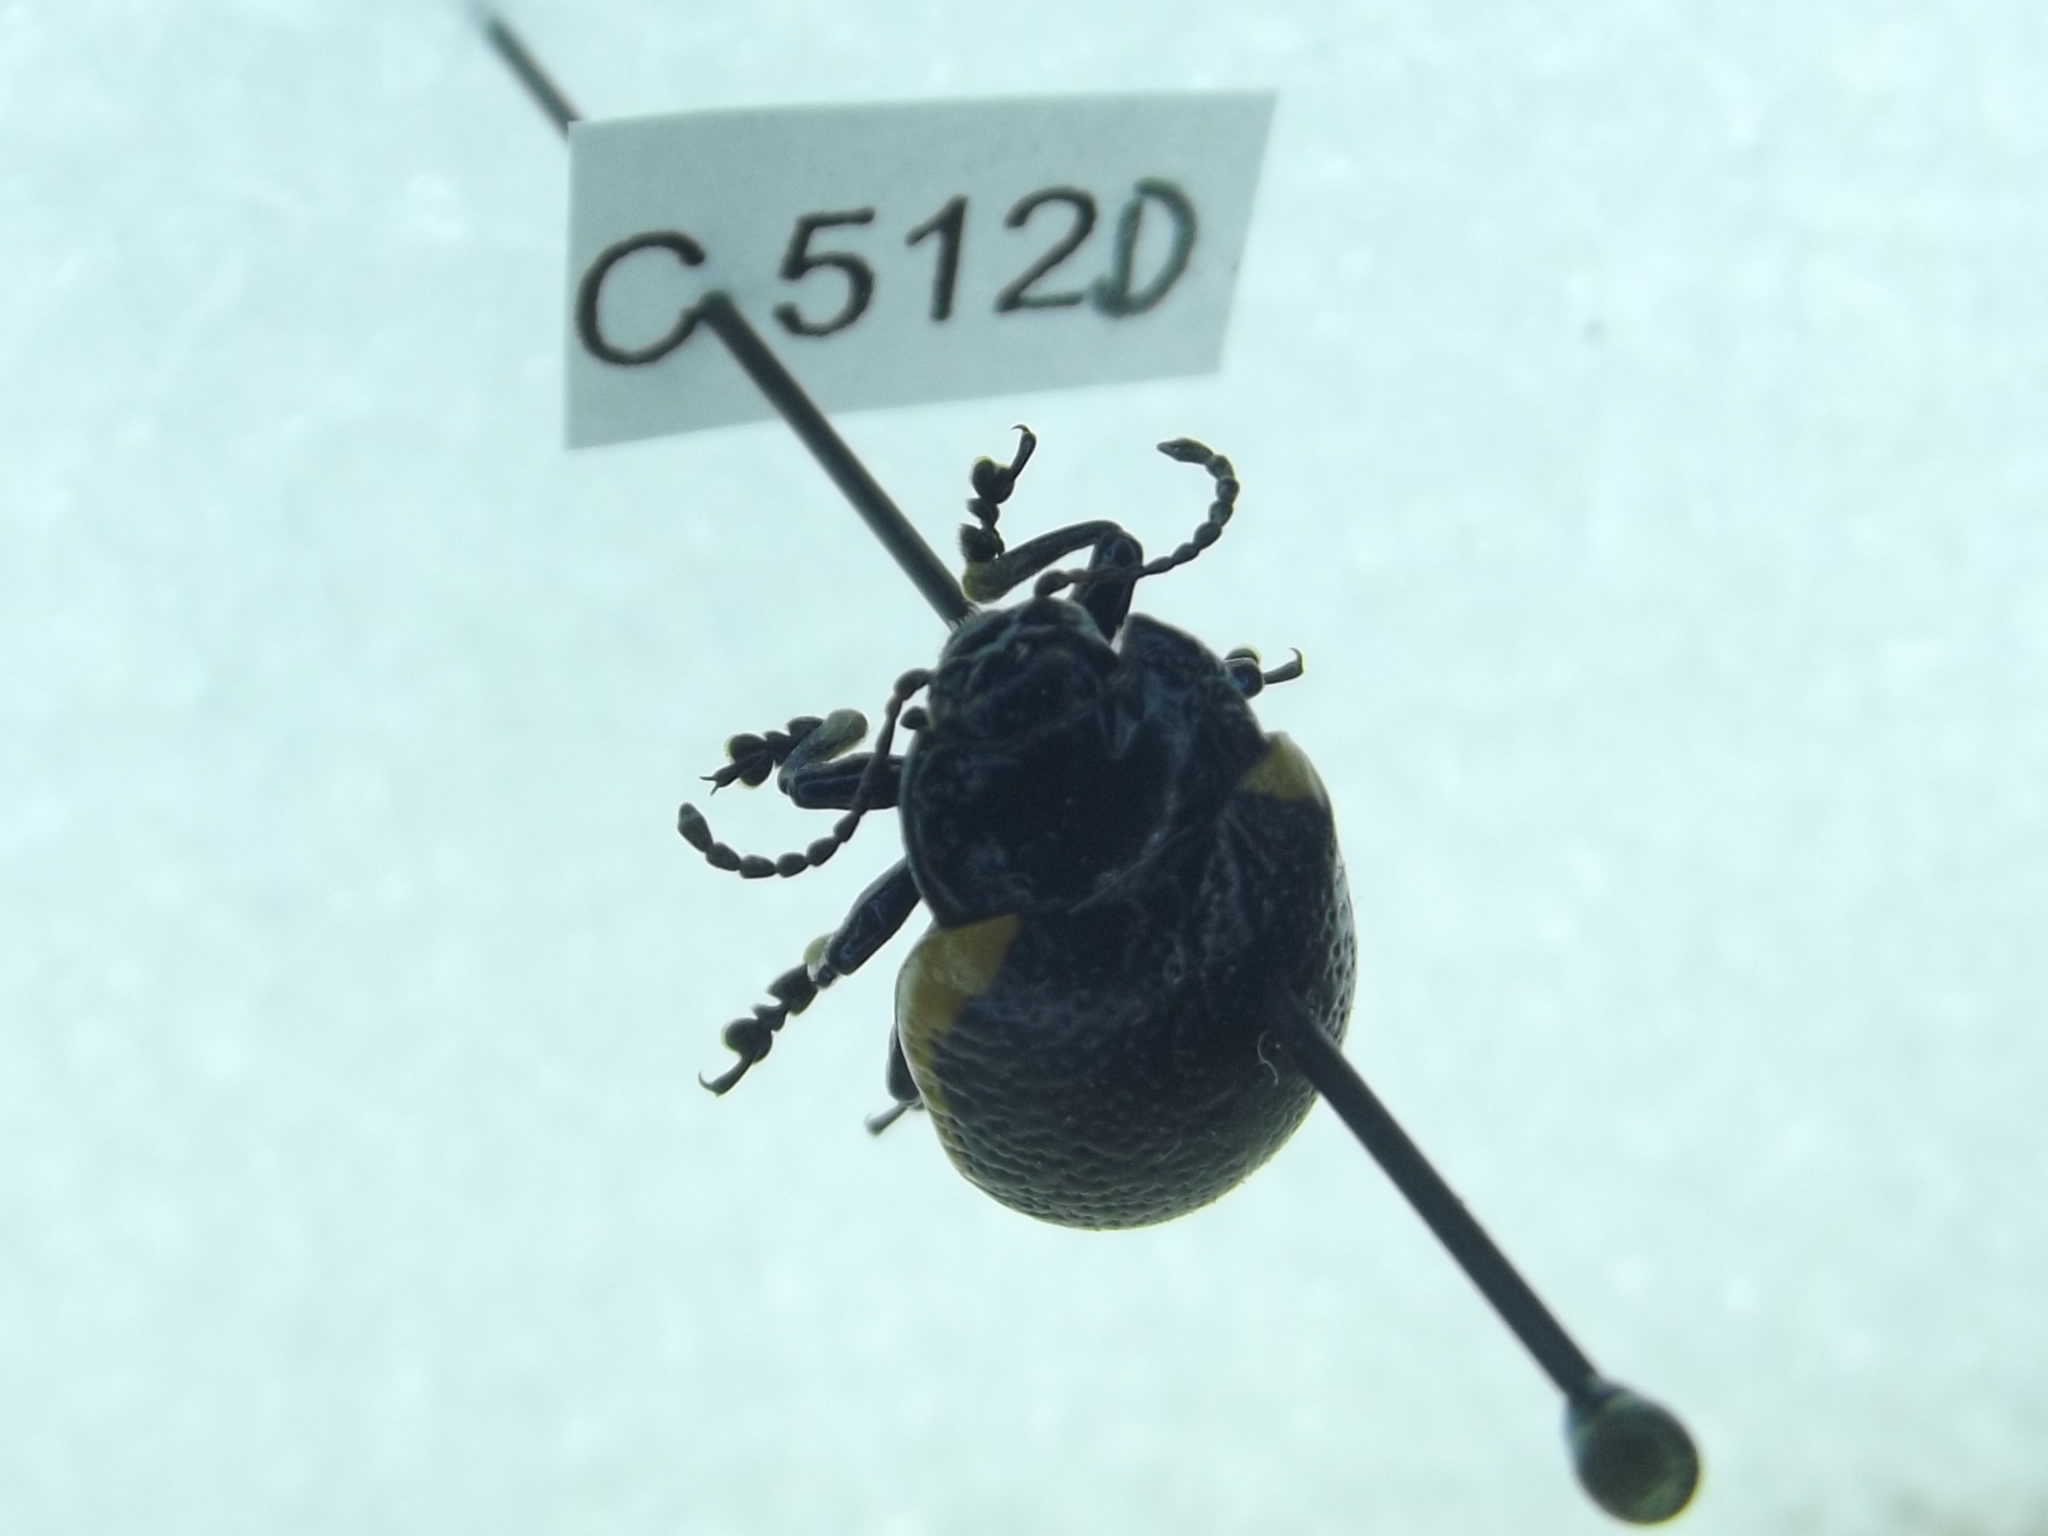Chrysolina_gypsophila: (661, 421, 1448, 1238)
